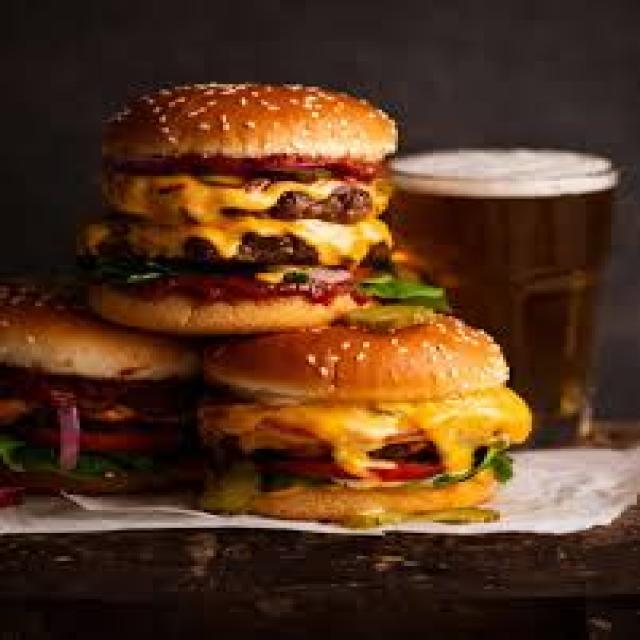Wet Waste: (216, 296, 523, 539), (150, 69, 383, 355), (3, 277, 185, 491)
